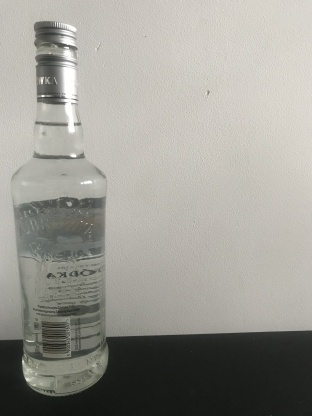nakretka: (32, 19, 79, 104)
